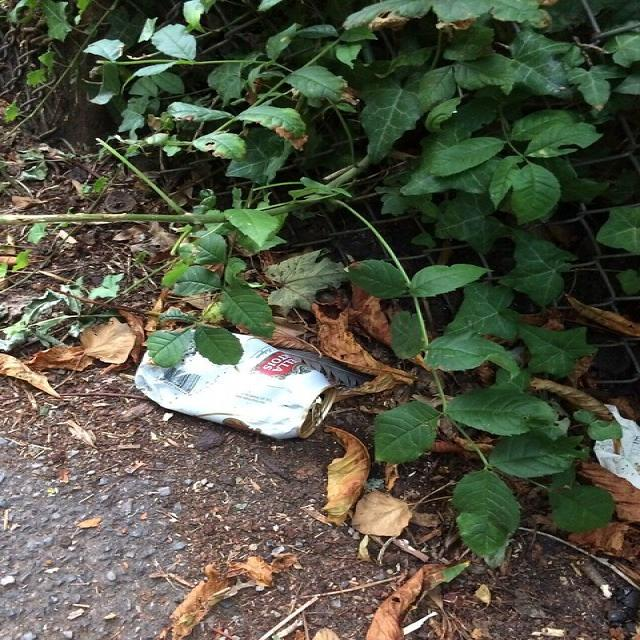Recycle: (133, 332, 335, 441)
Trash: (592, 402, 640, 490)
